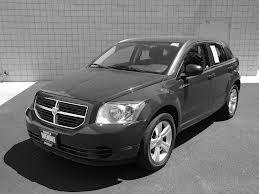car: (26, 37, 242, 173)
